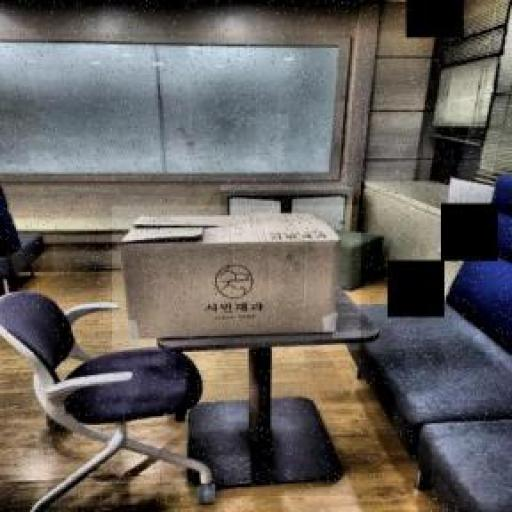box: (112, 206, 361, 350)
